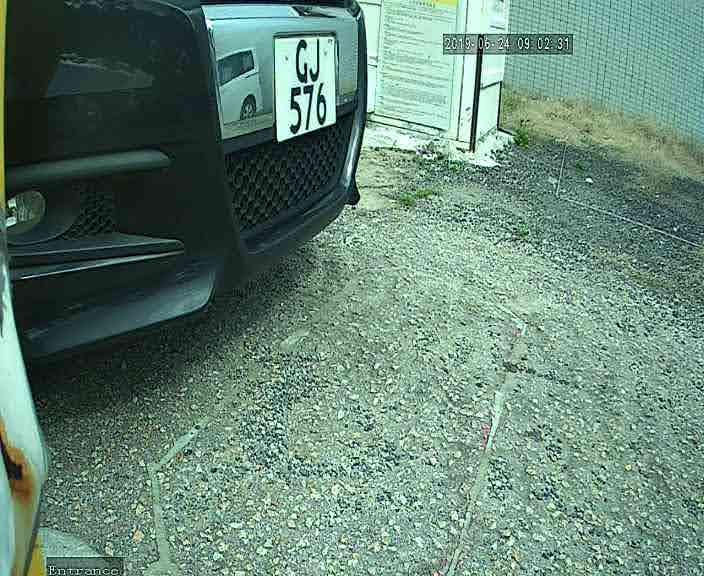privatecar: (2, 2, 373, 349)
